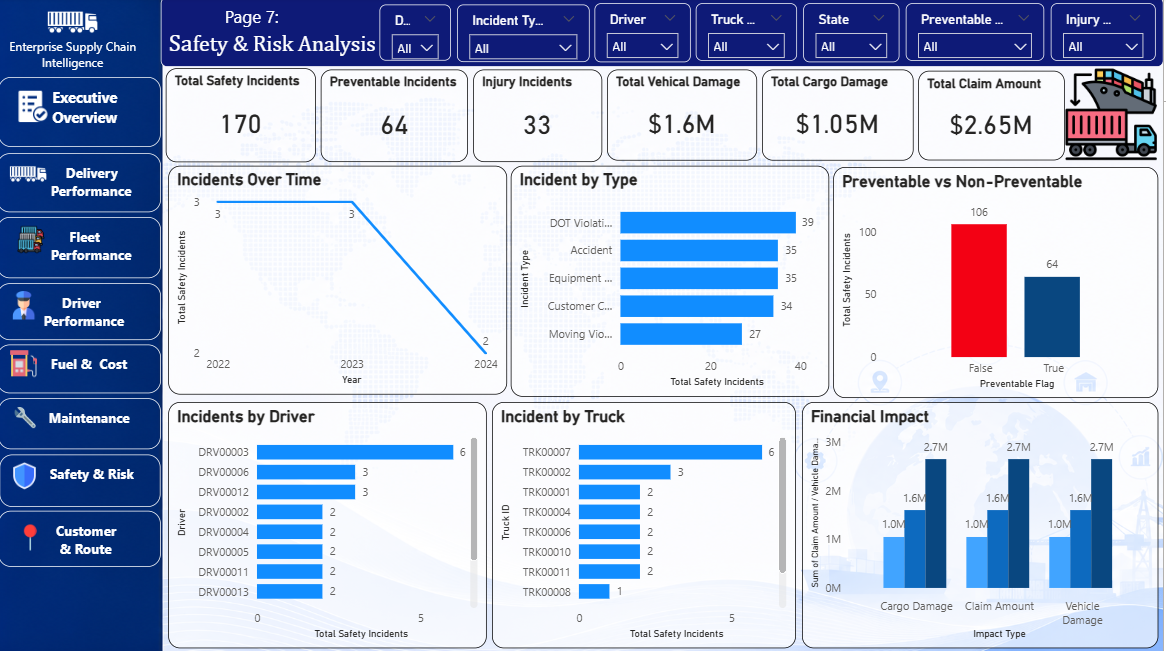

The dashboard page shown, as its layout file describes it:
{"tool":"powerbi","page":{"name":"Safety & Risk","canvas":[1280,720],"ordinal":6},"visuals":[{"type":"card","title":"Total Safety Incidents","fields":{"Values":["All Measures.Total Safety Incidents"]},"box":[185.2,78.2,164.7,102.9],"z":0,"group":"g10"},{"type":"group","id":"g1","title":"Group 1","box":[0,171.9,179.8,64.5],"z":0},{"type":"textbox","box":[2.7,502.6,177,57.6],"z":0,"group":"g4"},{"type":"image","box":[1.4,0,163.3,54.9],"z":1000,"group":"g3"},{"type":"card","title":"Preventable Incidents","fields":{"Values":["All Measures.Preventable Incidents"]},"box":[355.4,79.6,161.9,101.5],"z":1000,"group":"g10"},{"type":"group","id":"g2","title":"Group 3","box":[1.4,88.3,178.4,76.8],"z":1000},{"type":"image","box":[10.9,510.8,38.4,30.2],"z":1000,"group":"g4"},{"type":"group","id":"g3","title":"Group 4","box":[1.4,0,163.3,87.8],"z":2000},{"type":"textbox","box":[1.4,40.3,163.3,47.6],"z":2000,"group":"g3"},{"type":"card","title":"Injury Incidents","fields":{"Values":["All Measures.Injury Incidents"]},"box":[522.8,79.6,141.3,101.5],"z":2000,"group":"g10"},{"type":"card","title":"Total Vehical Damage","fields":{"Values":["All Measures.Total Vehicle Damage"]},"box":[669.6,79.6,164.7,100.2],"z":3000,"group":"g10"},{"type":"group","id":"g4","title":"Group 7","box":[2.7,502.6,177,57.6],"z":3000},{"type":"textbox","box":[1.4,564.4,178.4,61.7],"z":3000,"group":"g6"},{"type":"card","title":"Total Cargo Damage","fields":{"Values":["All Measures.Total Cargo Damage"]},"box":[839.7,79.6,166,100.2],"z":4000,"group":"g10"},{"type":"group","id":"g5","title":"Group 8","box":[1.4,440.9,178.4,56.3],"z":4000},{"type":"textbox","box":[1.4,440.9,178.4,56.3],"z":4000,"group":"g5"},{"type":"card","title":"Total Claim Amount","fields":{"Values":["All Measures.Total Claim Amount"]},"box":[1011.3,80.9,160.5,98.8],"z":5000,"group":"g10"},{"type":"textbox","box":[0,382,179.8,53.4],"z":5000,"group":"g7"},{"type":"group","id":"g6","title":"Group 9","box":[1.4,564.4,178.4,61.7],"z":5000},{"type":"textbox","box":[1.4,88.3,178.4,76.8],"z":6000,"group":"g2"},{"type":"textbox","box":[0,314.2,179.8,62.5],"z":6000,"group":"g9"},{"type":"group","id":"g7","title":"Group 10","box":[0,380.5,179.8,54.9],"z":6000},{"type":"group","id":"g8","title":"Group 11","box":[0,241.8,179.8,67.2],"z":7000},{"type":"group","id":"g9","title":"Group 12","box":[0,314.2,179.8,62.5],"z":8000},{"type":"textbox","box":[179.8,0,1100.5,76.8],"z":9000},{"type":"image","box":[1166.4,76.8,113.9,104.3],"z":10000},{"type":"textbox","box":[0,241.8,179.8,67.2],"z":10000,"group":"g8"},{"type":"group","id":"g10","title":"Group 2","box":[185.2,78.2,986.6,102.9],"z":11000},{"type":"slicer","fields":{"Values":["FactSafetyIncidents.location_state"]},"box":[885.1,6.9,105.7,64.5],"z":12000},{"type":"lineChart","title":"Incidents Over Time","fields":{"Y":["All Measures.Total Safety Incidents"],"Category":["Dim_Date.Year"]},"box":[188.4,185.9,371.9,251.1],"z":12000,"group":"g12"},{"type":"slicer","fields":{"Values":["FactSafetyIncidents.truck_id"]},"box":[767.1,6.9,111.1,63.1],"z":13000},{"type":"textbox","box":[0,171.9,179.8,64.5],"z":13000,"group":"g13"},{"type":"clusteredBarChart","title":"Incident by Type","fields":{"Category":["FactSafetyIncidents.incident_type"],"Y":["All Measures.Total Safety Incidents"]},"box":[564.4,185.9,349.9,253.9],"z":13000,"group":"g12"},{"type":"image","box":[15.5,102.8,48.5,34.8],"z":13003,"group":"g2"},{"type":"image","box":[1.4,174.6,65.9,39.8],"z":13007,"group":"g13"},{"type":"slicer","fields":{"Values":["Dim_Date.Date Hierarchy.Date","Dim_Date.Date Hierarchy.Year","Dim_Date.Date Hierarchy.Month Name"]},"box":[419.9,8.2,78.2,61.7],"z":14000},{"type":"clusteredColumnChart","title":"Preventable vs Non-Preventable","fields":{"Y":["All Measures.Total Safety Incidents"],"Category":["FactSafetyIncidents.preventable_flag"]},"box":[918.4,187.3,356.8,253.9],"z":14000,"group":"g12"},{"type":"slicer","fields":{"Values":["FactSafetyIncidents.driver_id"]},"box":[655.9,6.9,105.7,64.5],"z":15000},{"type":"clusteredBarChart","title":"Incidents by Driver","fields":{"Category":["FactSafetyIncidents.driver_id"],"Y":["All Measures.Total Safety Incidents"]},"box":[188,444.3,349.9,270.3],"z":15000,"group":"g11"},{"type":"slicer","fields":{"Values":["FactSafetyIncidents.incident_type"]},"box":[505,8.2,145.5,63.1],"z":16000},{"type":"clusteredBarChart","title":"Incident by Truck","fields":{"Y":["All Measures.Total Safety Incidents"],"Category":["FactSafetyIncidents.truck_id"]},"box":[543.4,444.3,333.4,270.3],"z":16000,"group":"g11"},{"type":"slicer","fields":{"Values":["FactSafetyIncidents.preventable_flag"]},"box":[997.6,6.9,152.3,63.1],"z":17000},{"type":"clusteredColumnChart","title":"Financial Impact","fields":{"Category":["Financial Impact.Impact Type"],"Y":["Sum(FactSafetyIncidents.cargo_damage_cost)","Sum(FactSafetyIncidents.vehicle_damage_cost)","Sum(FactSafetyIncidents.claim_amount)"]},"box":[883.7,444.3,391.1,270.3],"z":17000,"group":"g11"},{"type":"slicer","fields":{"Values":["FactSafetyIncidents.injury_flag"]},"box":[1156.8,6.9,115.3,63.1],"z":18000},{"type":"group","id":"g11","title":"Group 6","box":[188,444.3,1086.8,270.3],"z":19000},{"type":"group","id":"g12","title":"Group 13","box":[188.4,185.9,1086.8,255.2],"z":20000},{"type":"group","id":"g13","title":"Group 5","box":[0,171.9,179.8,64.5],"z":27001,"group":"g1"},{"type":"image","box":[13.7,450.5,34.3,23.3],"z":27002,"group":"g5"},{"type":"image","box":[13.7,315.6,31.6,45.3],"z":27006,"group":"g9"},{"type":"image","box":[2.7,251.4,68.6,30.2],"z":27007,"group":"g8"},{"type":"image","box":[20.6,579.3,32,29.2],"z":27008,"group":"g6"},{"type":"image","box":[12.7,380.5,33.3,44],"z":27010,"group":"g7"}]}

Visuals, with their boxes on the page's 1280x720 design canvas (x1, y1, x2, y2). These are canvas units, not pixel positions in the 1166x651 screenshot, which may show the page scaled, cropped or inside an application window:
"Total Safety Incidents" card: rect(185, 78, 350, 181)
"Group 1" group: rect(0, 172, 180, 236)
textbox: rect(3, 503, 180, 560)
image: rect(1, 0, 165, 55)
"Preventable Incidents" card: rect(355, 80, 517, 181)
"Group 3" group: rect(1, 88, 180, 165)
image: rect(11, 511, 49, 541)
"Group 4" group: rect(1, 0, 165, 88)
textbox: rect(1, 40, 165, 88)
"Injury Incidents" card: rect(523, 80, 664, 181)
"Total Vehical Damage" card: rect(670, 80, 834, 180)
"Group 7" group: rect(3, 503, 180, 560)
textbox: rect(1, 564, 180, 626)
"Total Cargo Damage" card: rect(840, 80, 1006, 180)
"Group 8" group: rect(1, 441, 180, 497)
textbox: rect(1, 441, 180, 497)
"Total Claim Amount" card: rect(1011, 81, 1172, 180)
textbox: rect(0, 382, 180, 435)
"Group 9" group: rect(1, 564, 180, 626)
textbox: rect(1, 88, 180, 165)
textbox: rect(0, 314, 180, 377)
"Group 10" group: rect(0, 380, 180, 435)
"Group 11" group: rect(0, 242, 180, 309)
"Group 12" group: rect(0, 314, 180, 377)
textbox: rect(180, 0, 1280, 77)
image: rect(1166, 77, 1280, 181)
textbox: rect(0, 242, 180, 309)
"Group 2" group: rect(185, 78, 1172, 181)
slicer - FactSafetyIncidents.location_state: rect(885, 7, 991, 71)
"Incidents Over Time" lineChart: rect(188, 186, 560, 437)
slicer - FactSafetyIncidents.truck_id: rect(767, 7, 878, 70)
textbox: rect(0, 172, 180, 236)
"Incident by Type" clusteredBarChart: rect(564, 186, 914, 440)
image: rect(16, 103, 64, 138)
image: rect(1, 175, 67, 214)
slicer - Dim_Date.Date Hierarchy.Date x Dim_Date.Date Hierarchy.Year: rect(420, 8, 498, 70)
"Preventable vs Non-Preventable" clusteredColumnChart: rect(918, 187, 1275, 441)
slicer - FactSafetyIncidents.driver_id: rect(656, 7, 762, 71)
"Incidents by Driver" clusteredBarChart: rect(188, 444, 538, 715)
slicer - FactSafetyIncidents.incident_type: rect(505, 8, 650, 71)
"Incident by Truck" clusteredBarChart: rect(543, 444, 877, 715)
slicer - FactSafetyIncidents.preventable_flag: rect(998, 7, 1150, 70)
"Financial Impact" clusteredColumnChart: rect(884, 444, 1275, 715)
slicer - FactSafetyIncidents.injury_flag: rect(1157, 7, 1272, 70)
"Group 6" group: rect(188, 444, 1275, 715)
"Group 13" group: rect(188, 186, 1275, 441)
"Group 5" group: rect(0, 172, 180, 236)
image: rect(14, 450, 48, 474)
image: rect(14, 316, 45, 361)
image: rect(3, 251, 71, 282)
image: rect(21, 579, 53, 608)
image: rect(13, 380, 46, 424)
